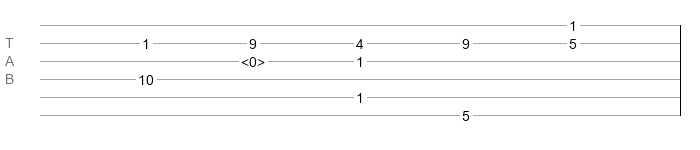1: (142, 36, 150, 46), (356, 90, 364, 100), (356, 54, 364, 64), (569, 18, 577, 28)
10: (138, 72, 154, 82)
4: (356, 36, 364, 46)
5: (462, 108, 470, 118), (569, 36, 577, 46)
9: (249, 36, 257, 46), (462, 36, 470, 46)
harmonic: (241, 54, 265, 64)
